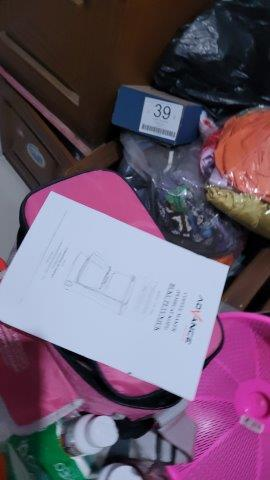kertas: (1, 189, 229, 401)
